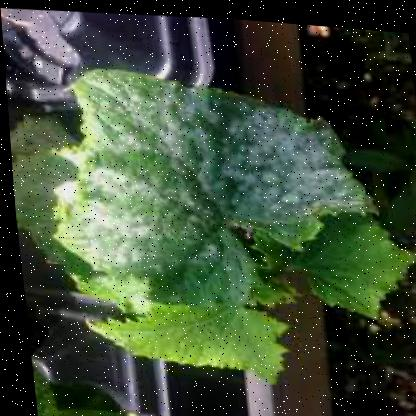PowderyMildew: (91, 86, 284, 258)
